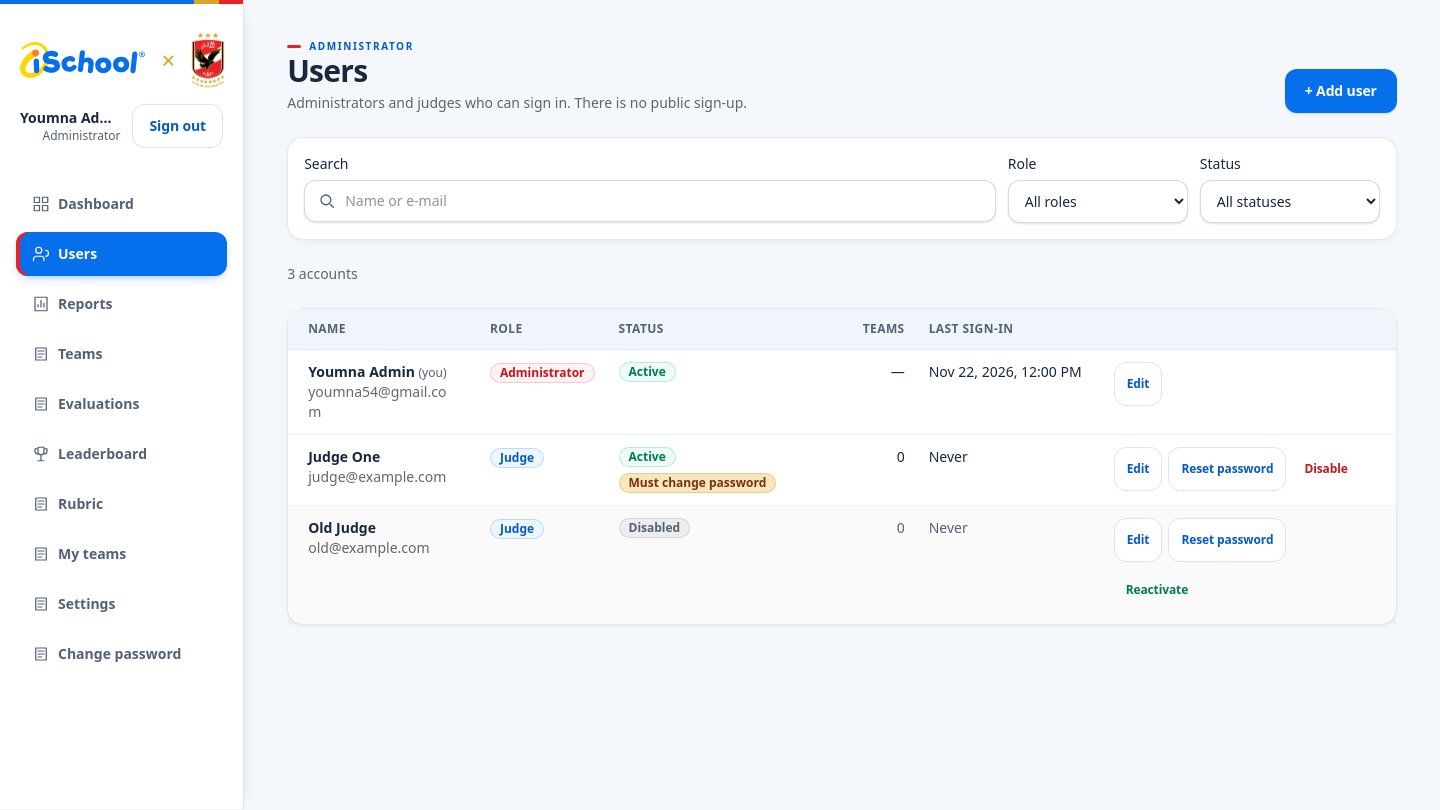
Test: Users page › locks the role of the last active administrator in the edit dialog
Expected: the table is shown, [288,309,1396,624]
Click the button with aria-label "Edit Youmna Admin" at x=1138, y=384, box [1114,362,1162,406]
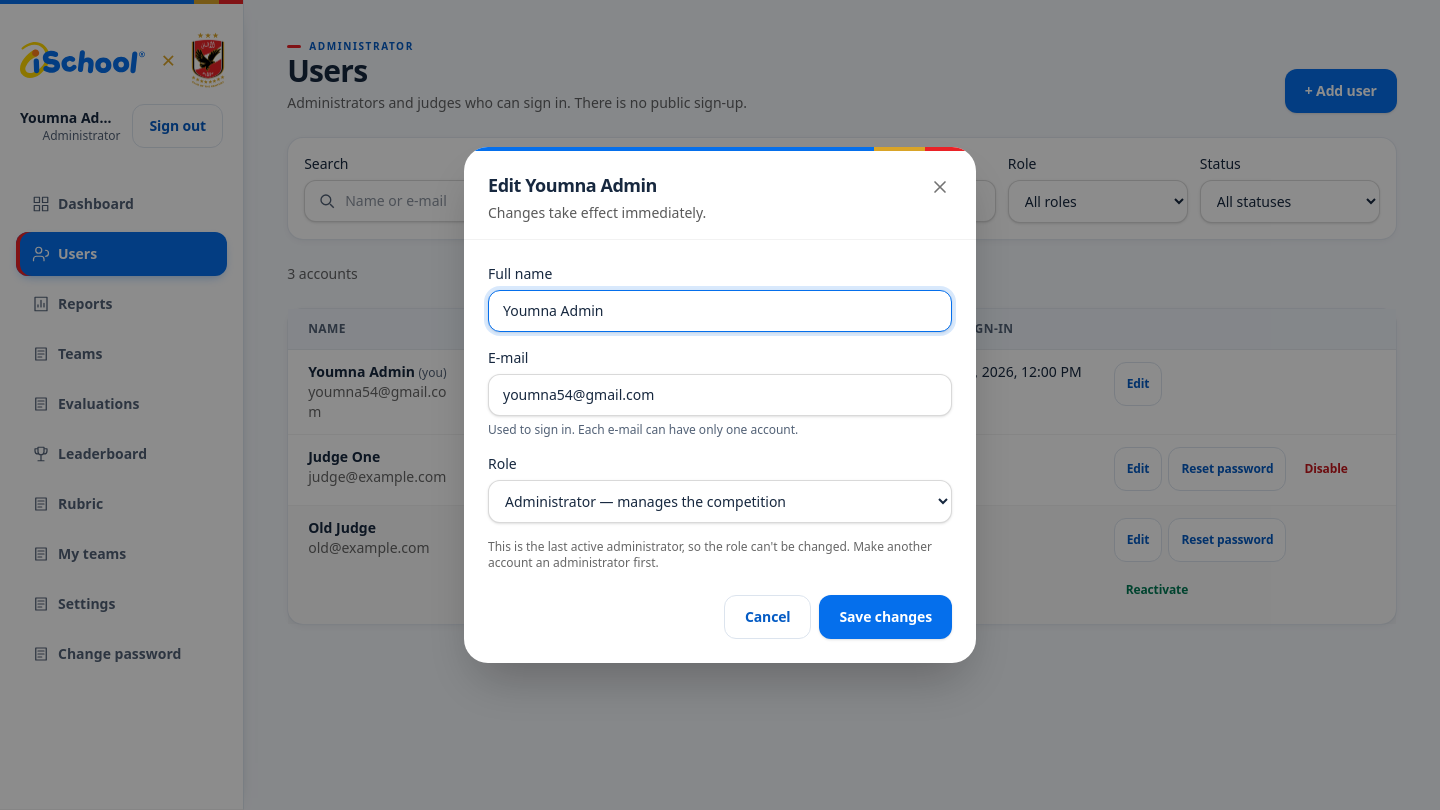
Expected: the dropdown labelled "Role" is disabled, [488,480,952,523]
Expected: the text "last active administrator" is shown, [488,538,932,571]
